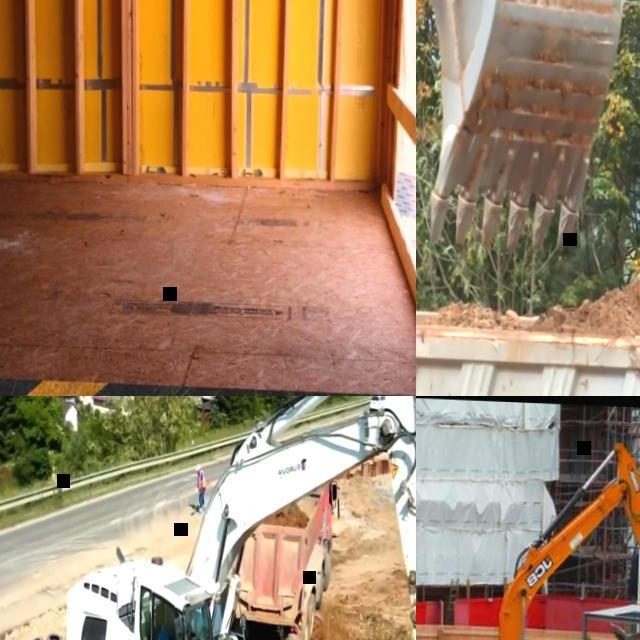Hardhat: (195, 463, 200, 470)
NO-Safety Vest: (158, 629, 168, 640)
Person: (156, 610, 192, 640), (193, 462, 207, 512)
Safety Vest: (197, 468, 206, 490)
machinery: (54, 396, 416, 640), (416, 0, 624, 257), (416, 432, 640, 640), (416, 216, 640, 396), (229, 472, 340, 640)
